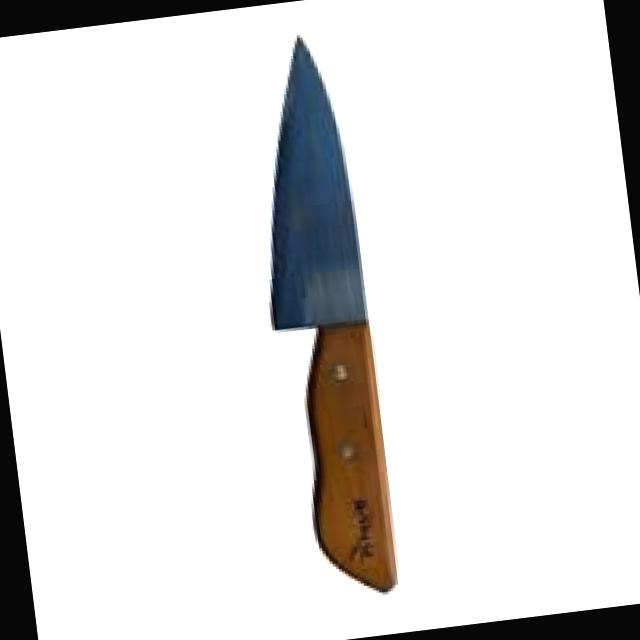knife: (268, 34, 394, 594)
